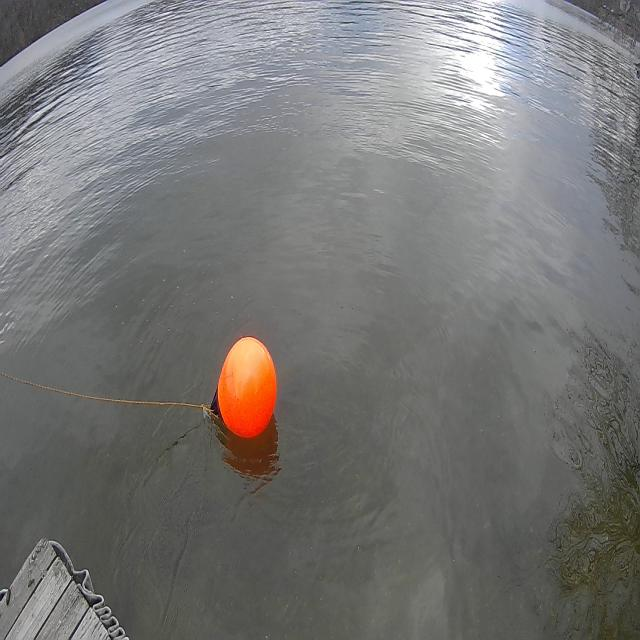Buoy: (208, 329, 282, 449)
